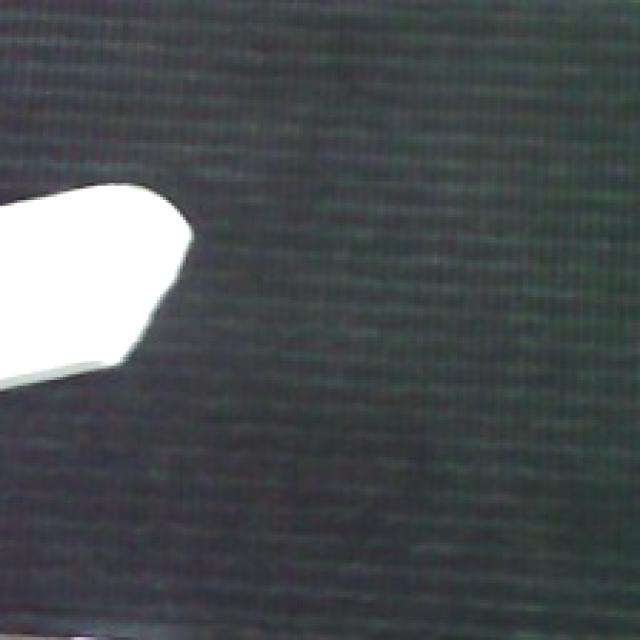defected: (3, 174, 200, 394)
